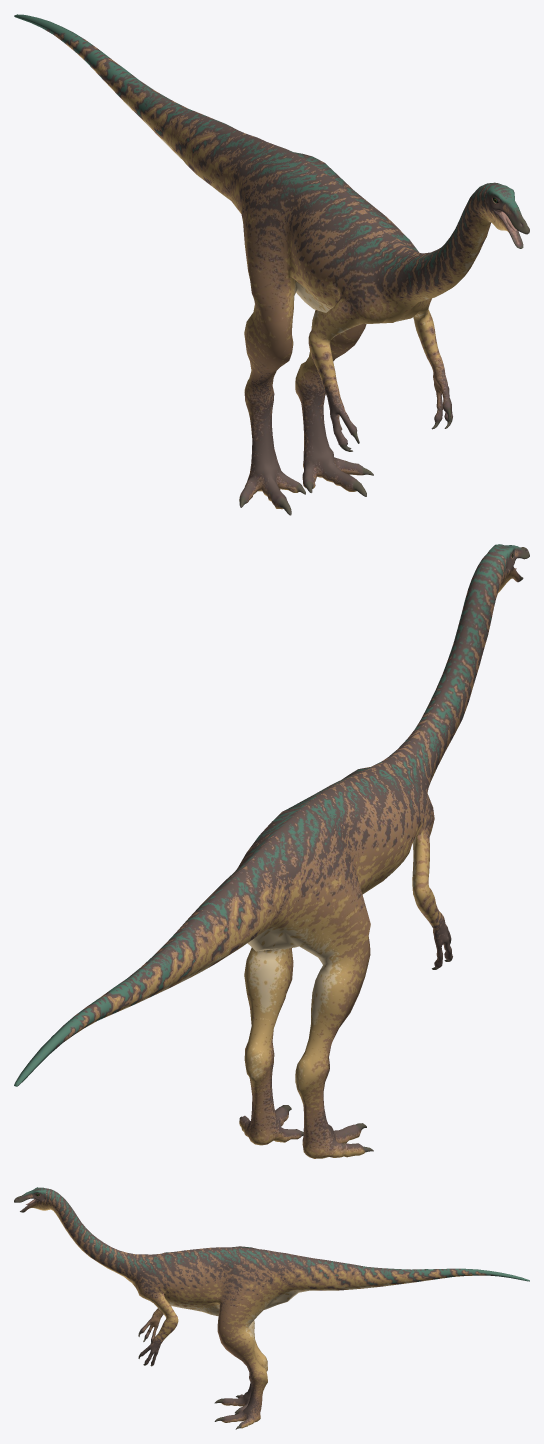
File: Gallimimus.glb
3 renders of one model, top to bottom at view 1: azimuth 30°, elevation 25°; view 2: azimuth 150°, elevation 25°; view 3: azimuth 270°, elevation 25°, orthographic. The views are drawn at different scales.
Parts seen in each view (by area): view 1: DW_Gallimimus_Adulto_Mayor_mesh; view 2: DW_Gallimimus_Adulto_Mayor_mesh; view 3: DW_Gallimimus_Adulto_Mayor_mesh.
Part boxes in pixels (x1,y1,x2,y2): DW_Gallimimus_Adulto_Mayor_mesh: [14, 14, 529, 515]; DW_Gallimimus_Adulto_Mayor_mesh: [14, 544, 529, 1158]; DW_Gallimimus_Adulto_Mayor_mesh: [14, 1187, 529, 1429].
Bounding box in the file's own units: 0.1504 × 0.4814 × 1.
2 materials, 2 textured.
